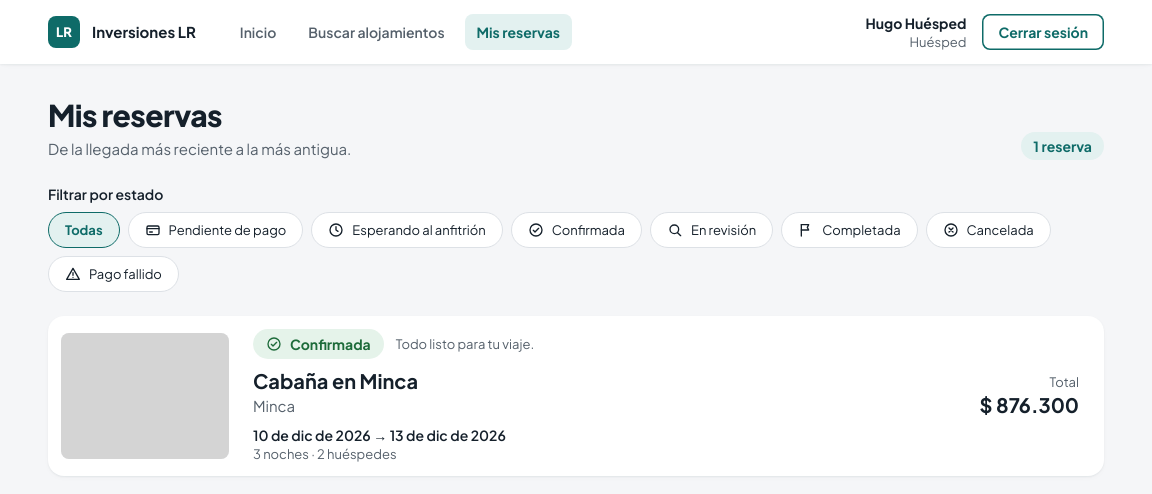
Test: mis reservas › filtro por estado › consulta al backend con el estado elegido y lo guarda en la URL
Later steps or results of the test are not shown.
Expected: the list named "Tus reservas" is shown, [48,316,1104,476]
Expected: the radio button labelled "Todas" is checked, [48,212,120,248]
Click the radio button labelled "Pendiente de pago".
click(215, 230)  # box [128,212,303,248]
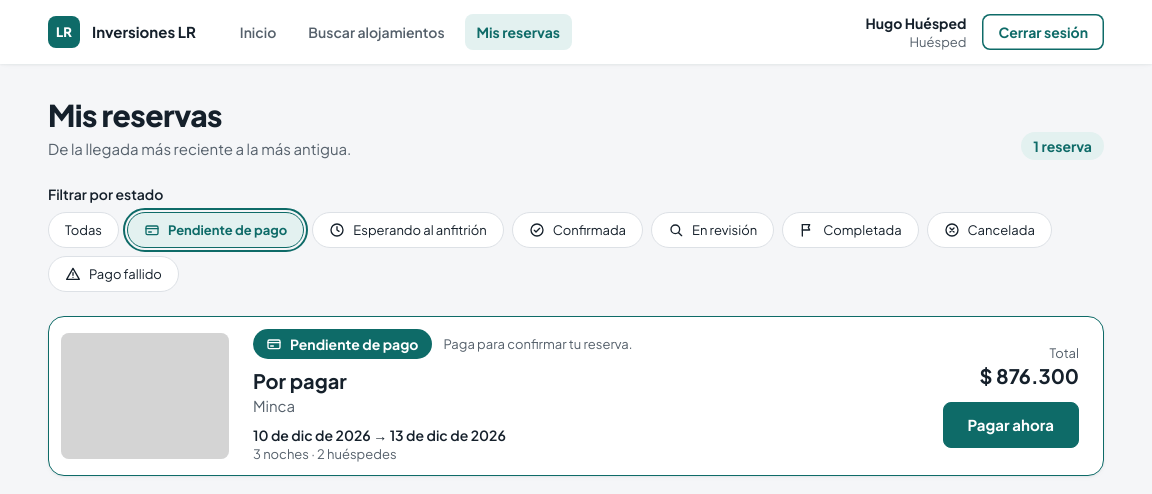
Expected: the link "Por pagar" is shown, [253,368,347,393]
Expected: the link "Cabaña en Minca" is gone
